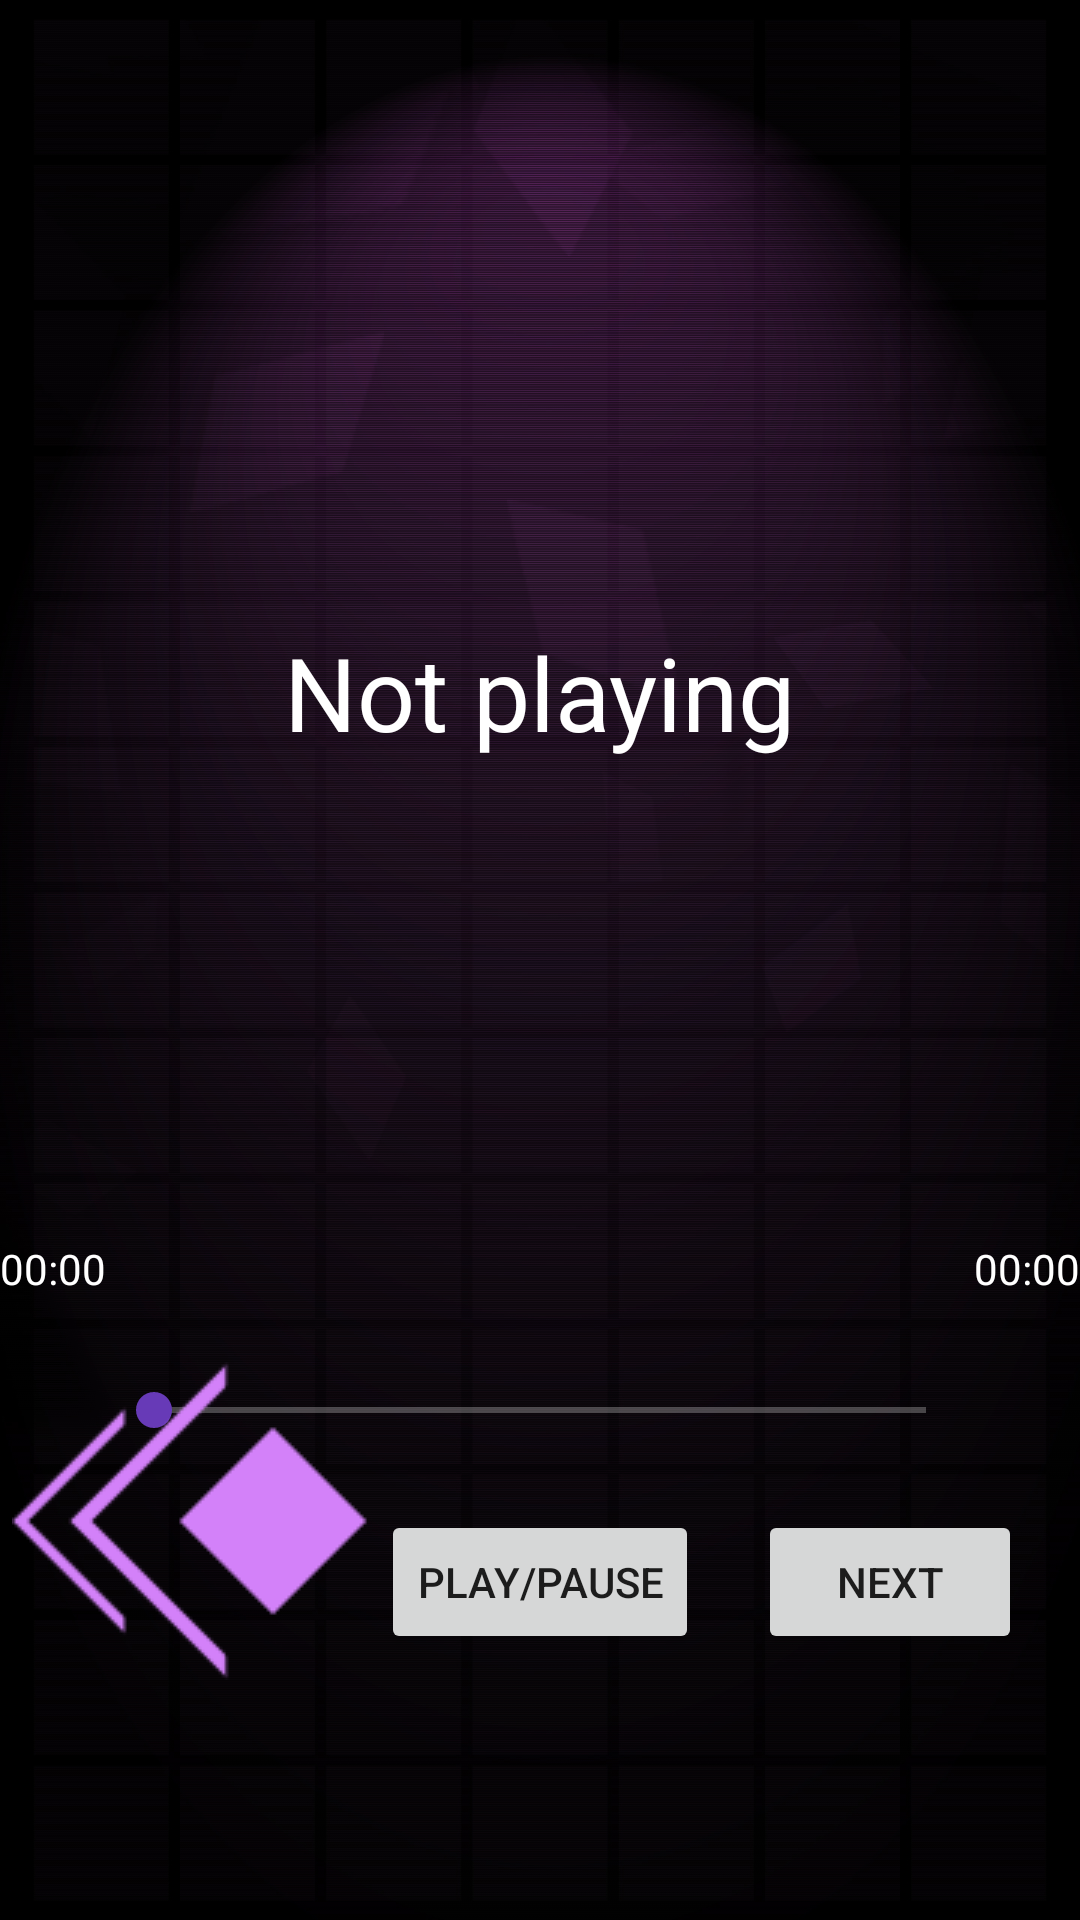

Locate icon controls on the screen. Image size 1080px×1920px, boxes as (x1, y1, x2, y2).
prev: (12, 1409, 367, 1633)
